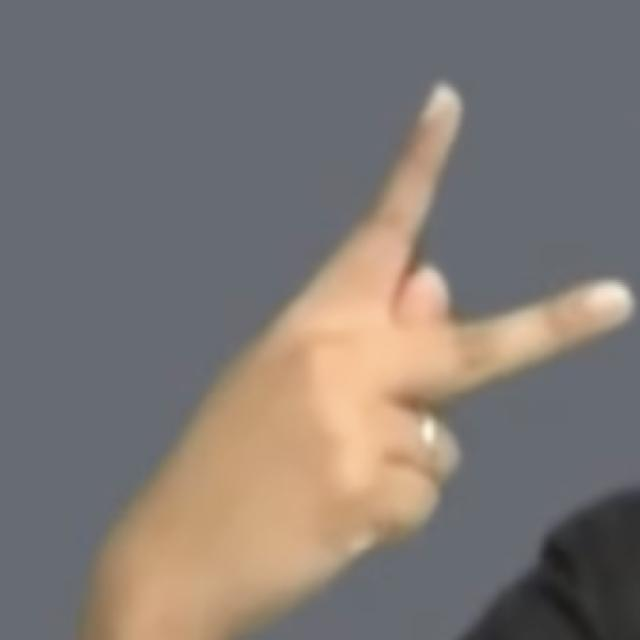K: (83, 64, 637, 631)
